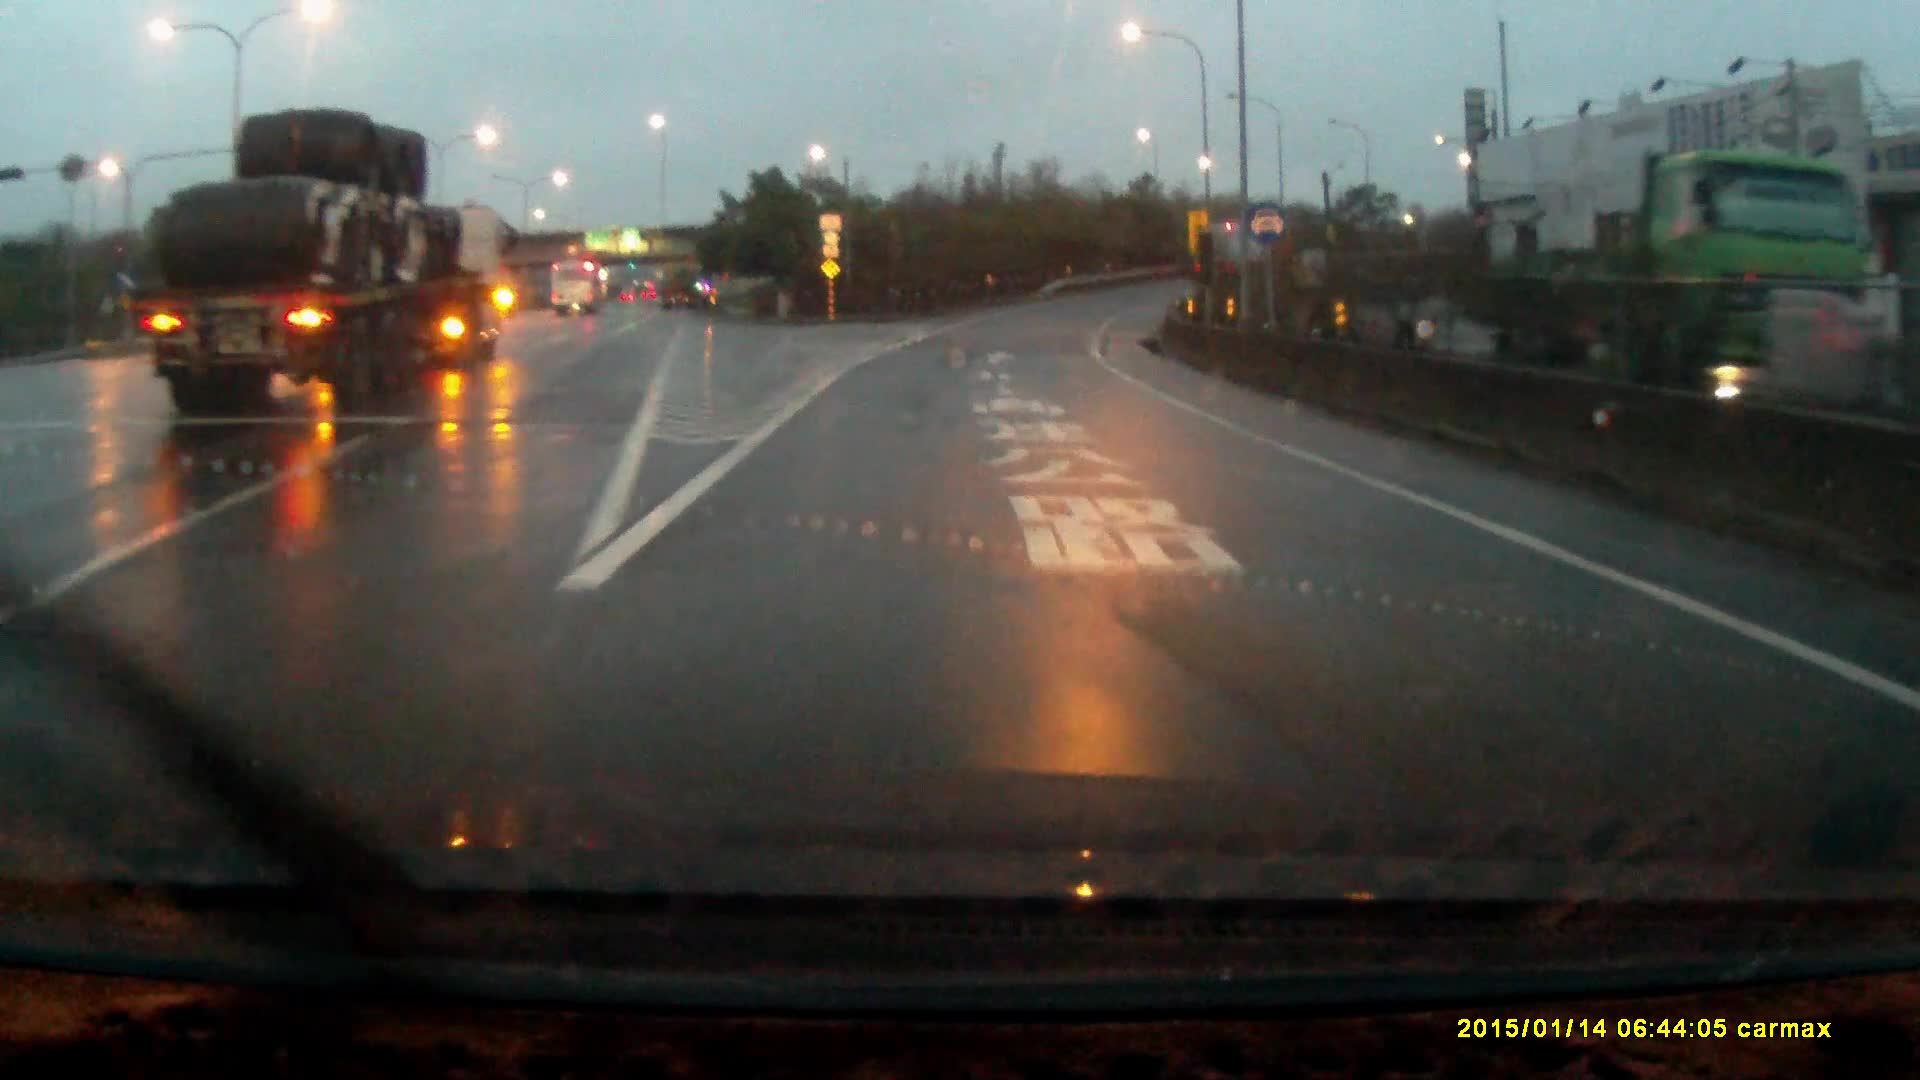vehicle: (124, 111, 518, 407), (550, 262, 603, 320)
